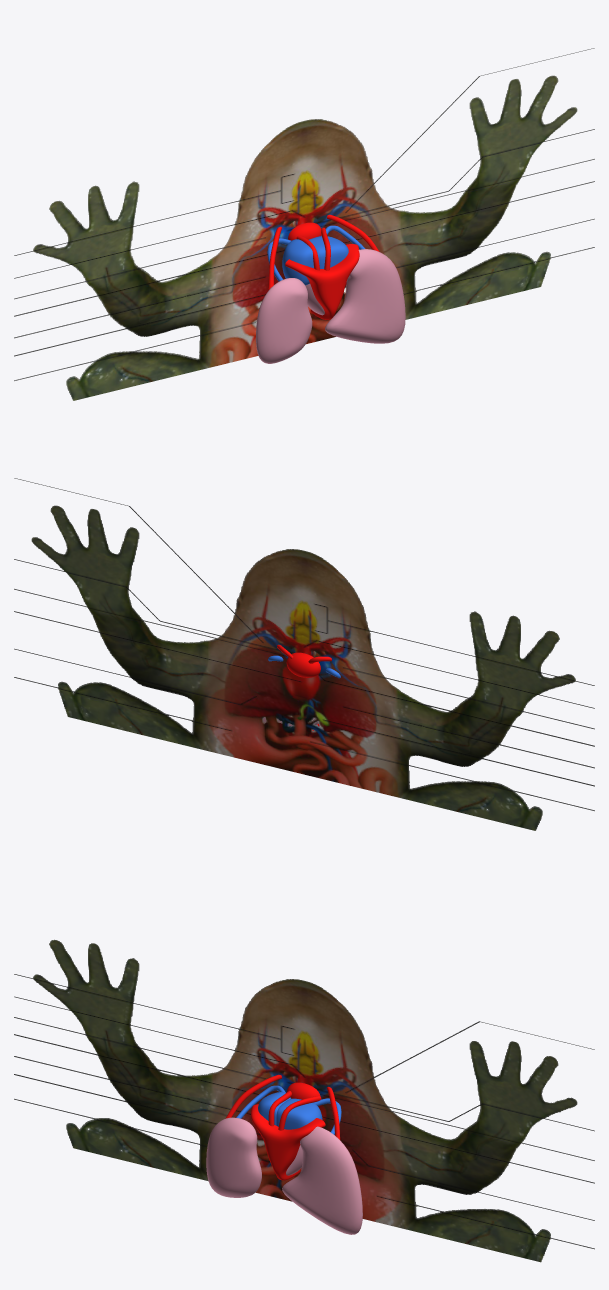
The model's file is Dalaman Katak.fbx.
The picture shows the model from 3 angles, top to bottom: view 1: azimuth 30°, elevation 25°; view 2: azimuth 150°, elevation 25°; view 3: azimuth 330°, elevation 25°; orthographic projection.
Parts seen in each view (by area): view 1: KATAK_DARI BAWAH, Heart, Merah, Biru; view 2: KATAK_DARI BAWAH, Merah; view 3: KATAK_DARI BAWAH, Heart, Merah, Biru.
Part boxes in pixels (<box>): KATAK_DARI BAWAH: <box>14,48,594,400</box>; Heart: <box>256,249,405,363</box>; Merah: <box>268,214,379,319</box>; Biru: <box>267,225,365,285</box>; KATAK_DARI BAWAH: <box>14,478,594,830</box>; Merah: <box>277,644,331,730</box>; KATAK_DARI BAWAH: <box>14,939,594,1262</box>; Heart: <box>206,1117,362,1234</box>; Merah: <box>225,1074,340,1180</box>; Biru: <box>236,1085,341,1134</box>.
Size of the model in its own units: 500 by 213 by 55.06.
